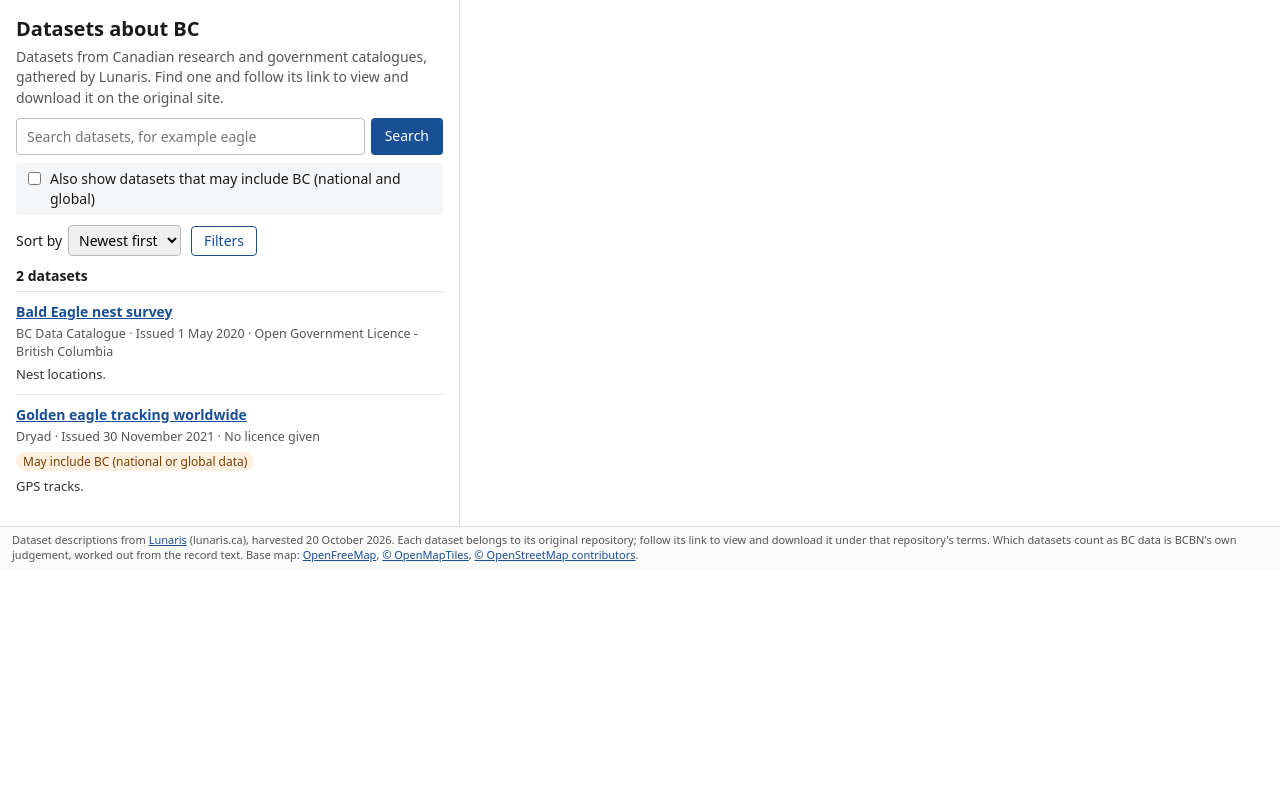
the Datasets page › does not send a search that is too short
The image size is (1280, 800).
Type "e" into the search field at (190, 136), box [16, 118, 365, 155]
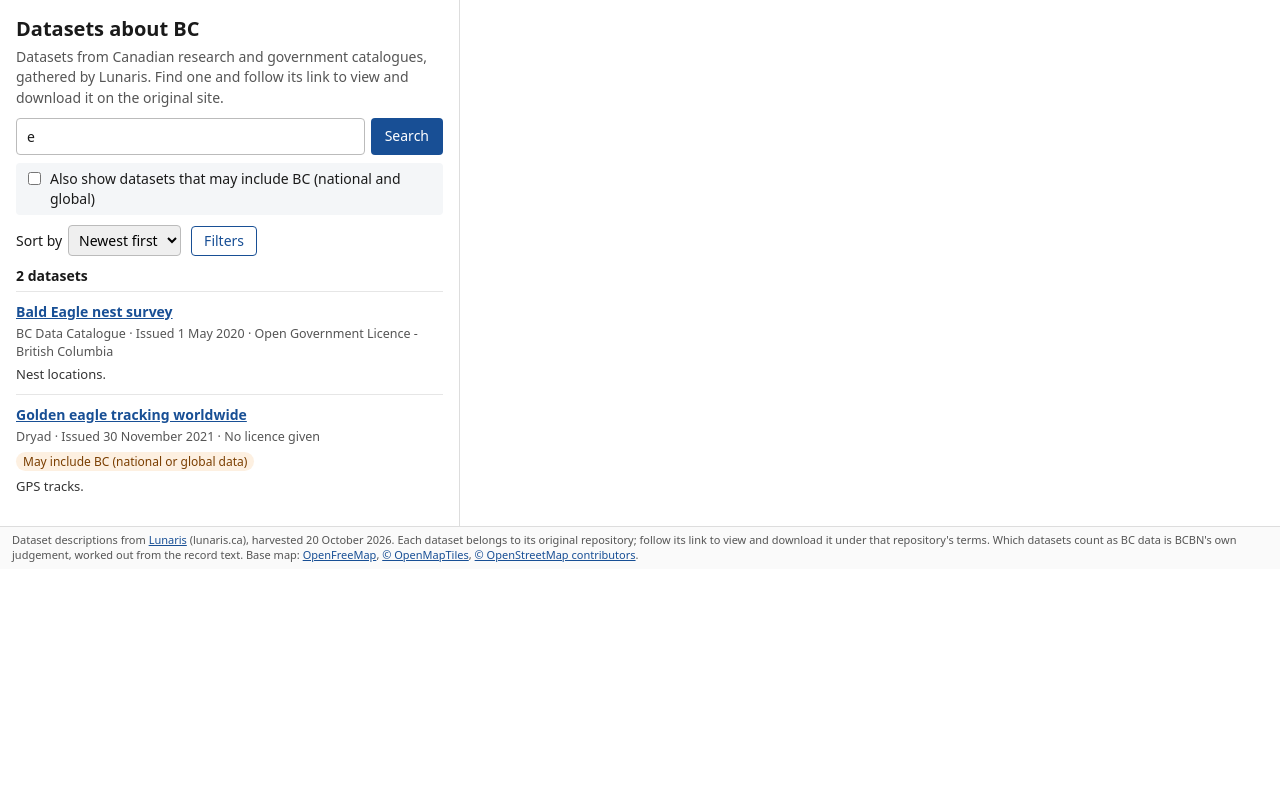
Click the button "Search" at (407, 136), box [371, 118, 443, 155]
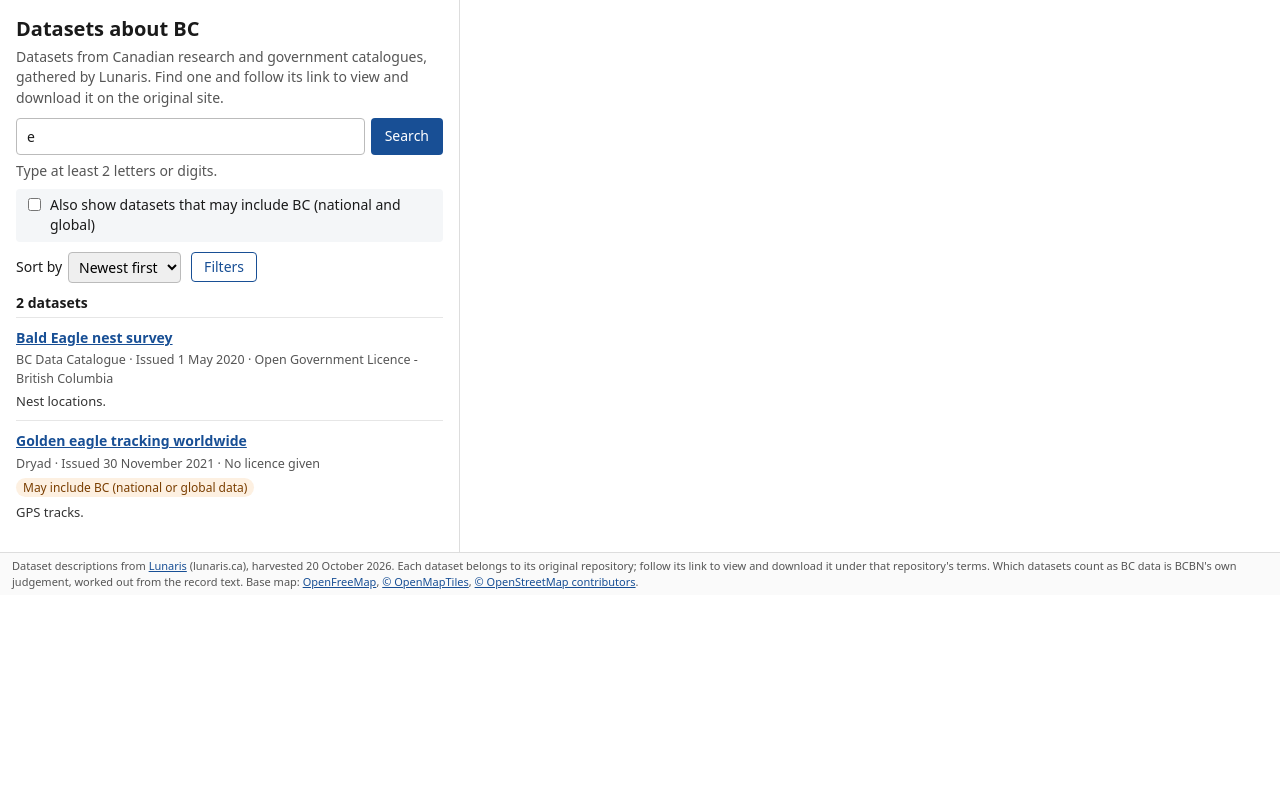
Expected: the text "Type at least 2 letters or digits." is shown, [16, 161, 217, 180]
